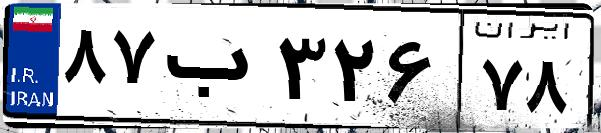2: (330, 28, 385, 110)
3: (270, 28, 330, 110)
6: (385, 28, 445, 110)
7: (475, 38, 525, 113), (110, 28, 158, 98)
8: (57, 26, 110, 100), (525, 38, 570, 115)
ب: (158, 20, 270, 120)
